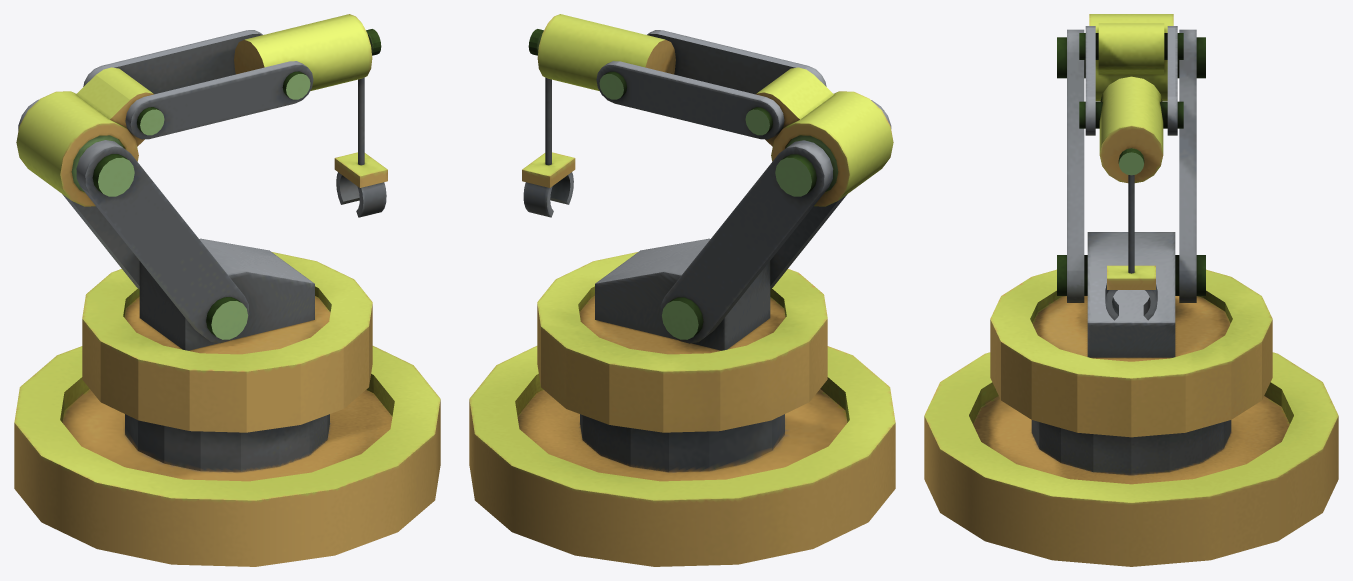
File: Machine_A.FBX
3 renders of one model, left to right at view 1: azimuth 30°, elevation 25°; view 2: azimuth 150°, elevation 25°; view 3: azimuth 270°, elevation 25°, orthographic. The views are drawn at different scales.
Visible parts, largest first — view 1: Machine_A; view 2: Machine_A; view 3: Machine_A.
Part boxes in pixels (x1,y1,x2,y2): Machine_A: [14, 14, 440, 566]; Machine_A: [469, 14, 895, 566]; Machine_A: [924, 14, 1338, 566].
Size of the model in its own units: 54.9 by 59.99 by 54.46.
